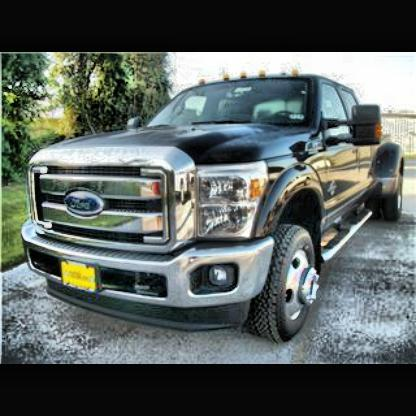Ford F-450 Super Duty Crew Cab 2012: (23, 70, 407, 346)
